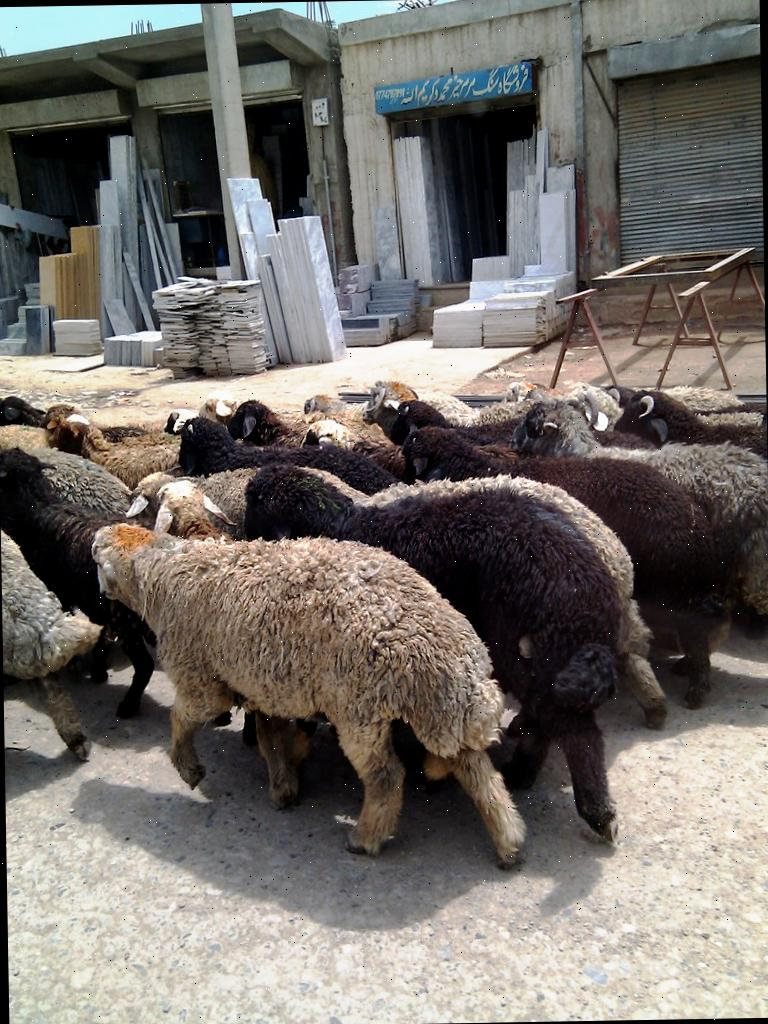Sheep: (80, 502, 544, 881), (232, 462, 630, 866), (393, 418, 719, 706), (502, 397, 768, 698), (146, 481, 344, 818), (1, 438, 174, 725), (598, 374, 768, 602), (176, 414, 392, 504), (60, 416, 191, 492), (197, 385, 359, 445), (298, 414, 410, 485), (228, 396, 328, 464), (0, 388, 57, 446)
